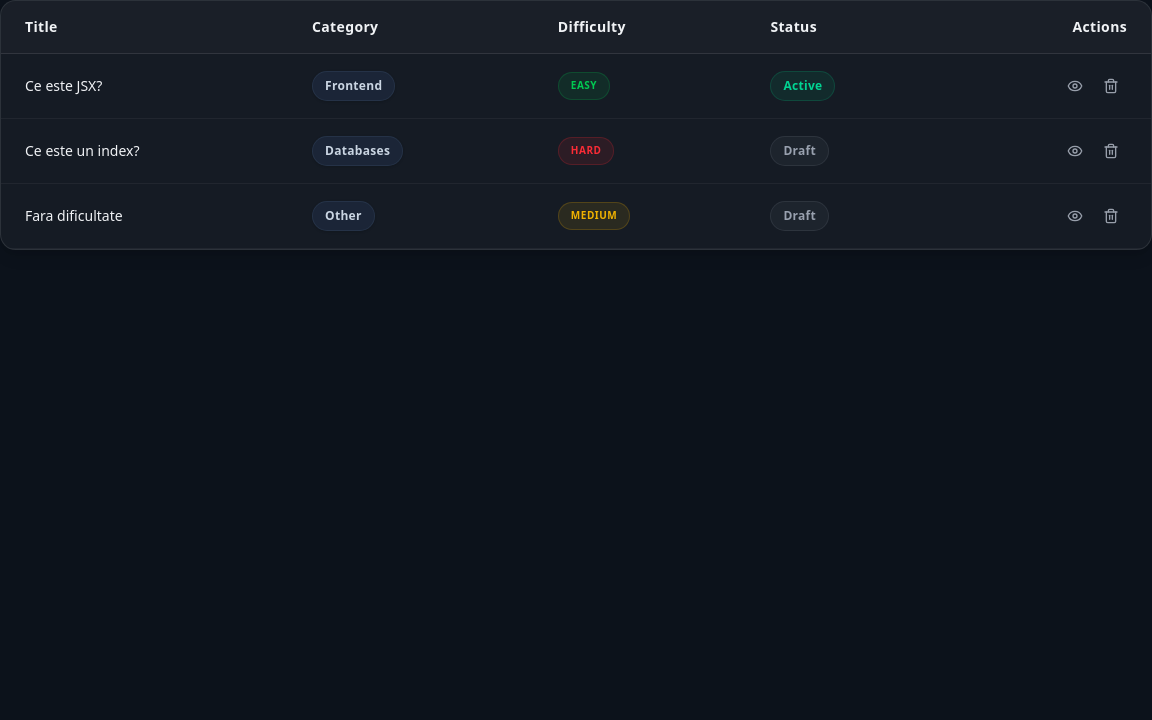
QuestionTable › warns when the delete fails
What coordinates should you click on to do the following:
click the button named "Delete question 1"
I would click on:
 (1111, 86)
Its box is [1095,70,1127,102].
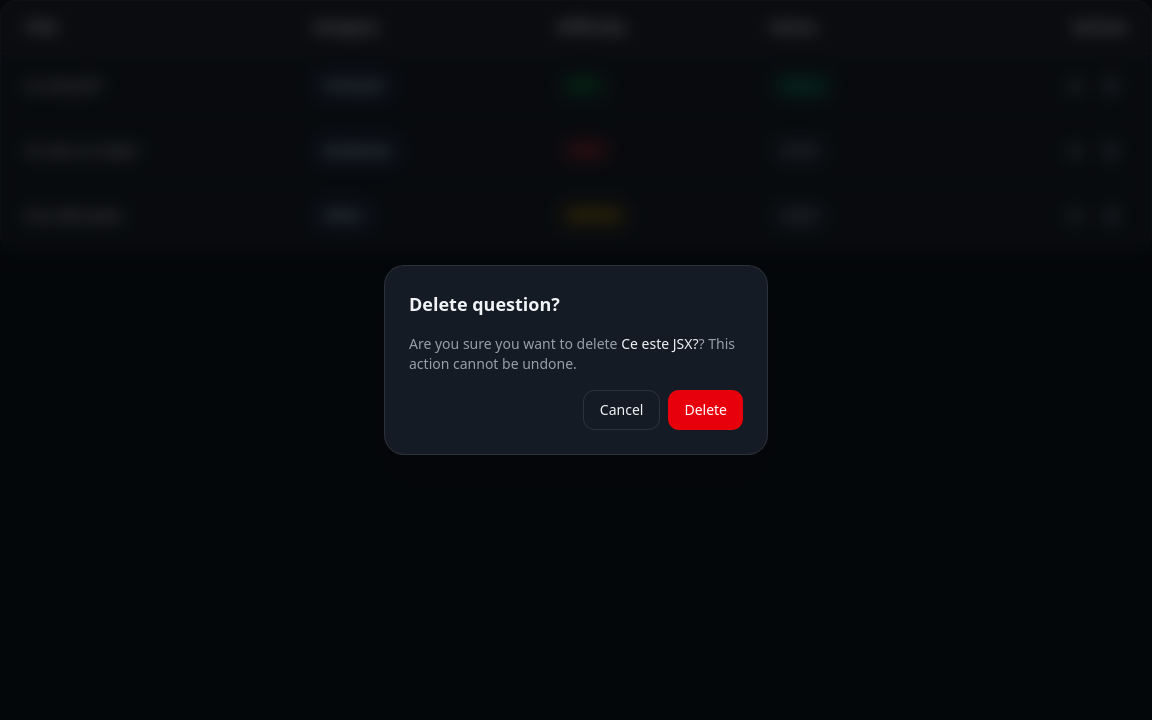
What coordinates should you click on to do the following:
click the button "Delete"
I would click on:
 (706, 410)
Its box is [668,390,743,430].
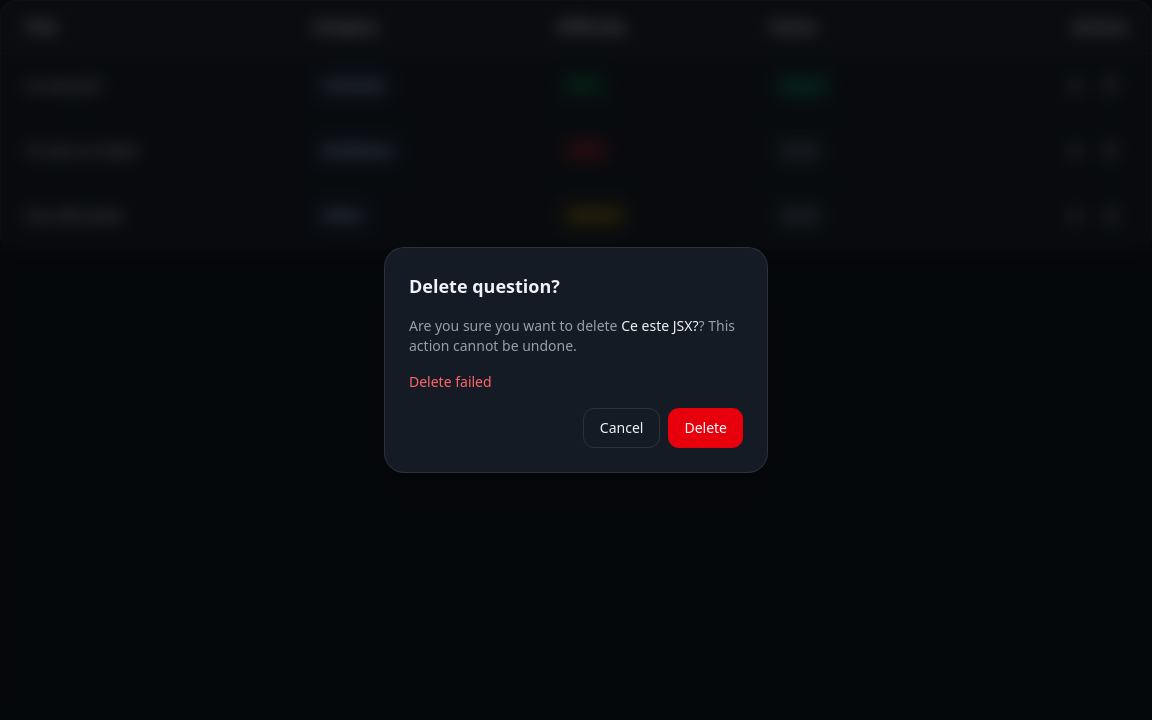
Check: the heading "Delete question?" is shown, box [409,274,560,298]
Check: the text "Delete failed" is shown, box [409,372,492,391]
